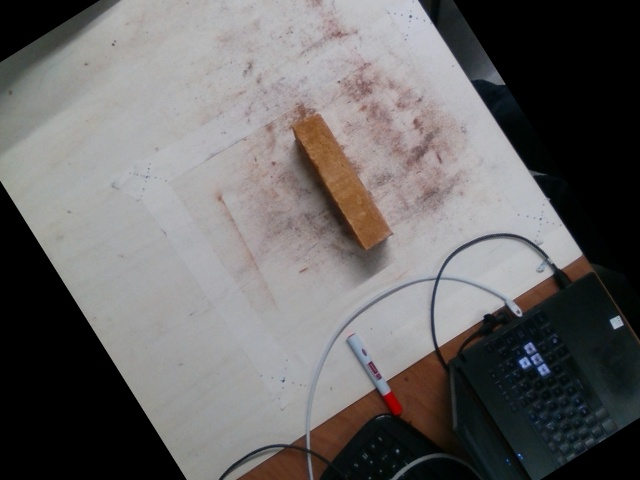brick-side: (295, 111, 389, 249)
